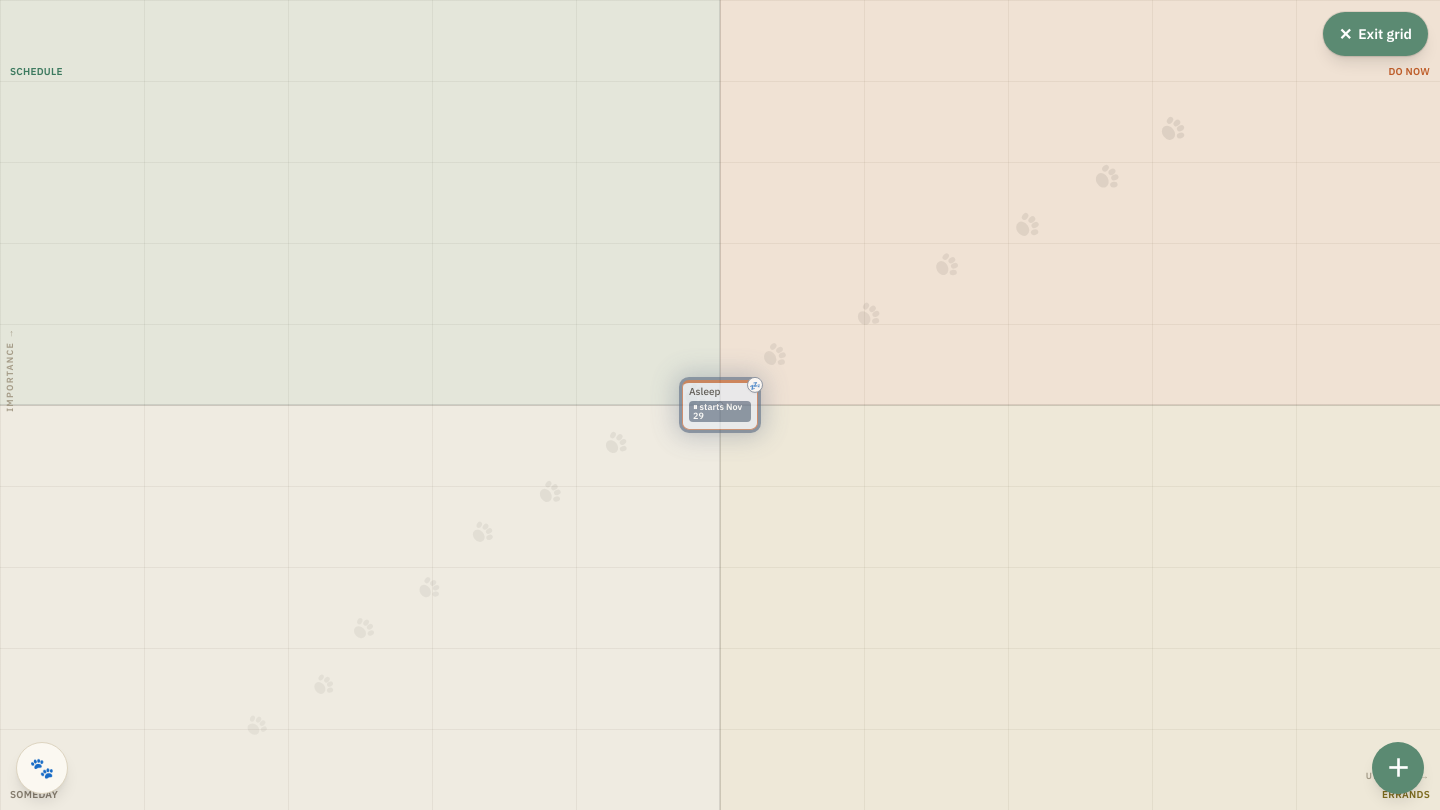
it: TouchGridSurface hold-drag › paused chips are draggable too: hold wiring present, plain tap still opens the sheet
Note: A quick tap (no hold) is still delivered as the tap → opens the sheet.
Click the button "💤 Asleep ⏸ starts Nov 29". click: (720, 405)
box: [682, 380, 758, 430]
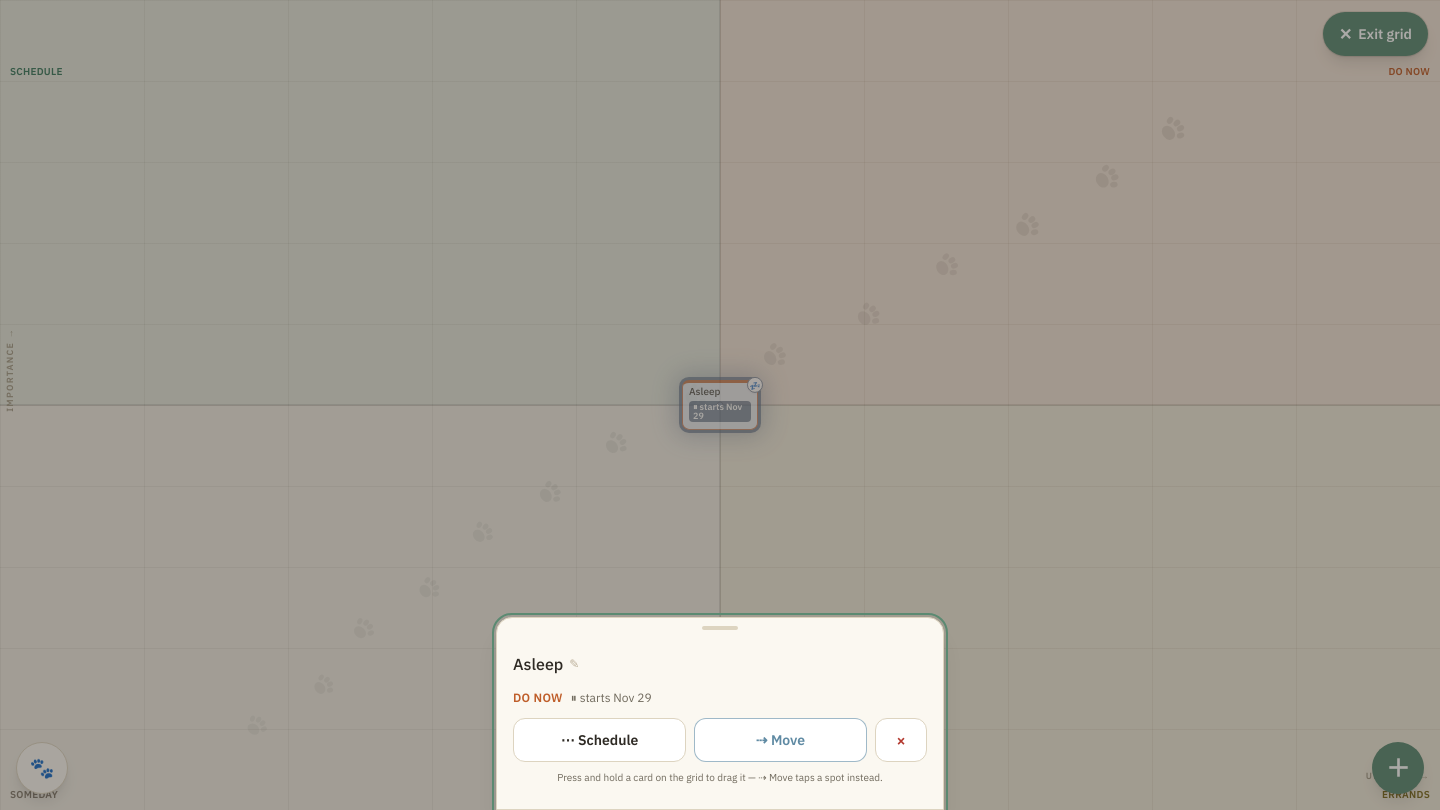
Check: the dialog named "Task: Asleep" is shown, box [496, 617, 944, 809]
